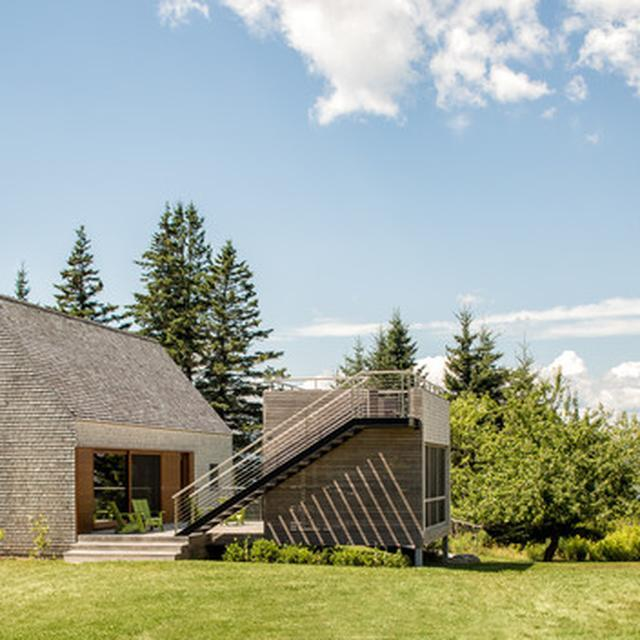building: (0, 294, 233, 559), (263, 376, 449, 541)
